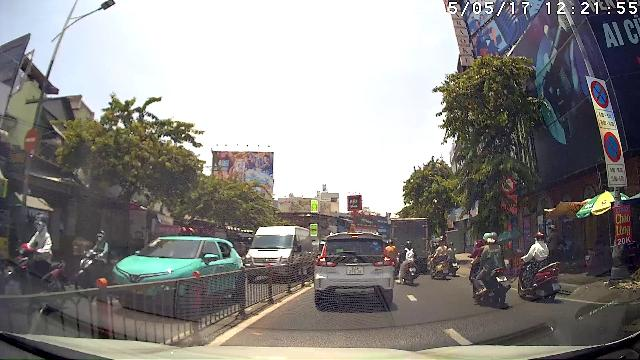130-cam-dung-va-do-xe: (590, 79, 608, 109)
131a-cam-do-xe: (603, 130, 621, 162)
